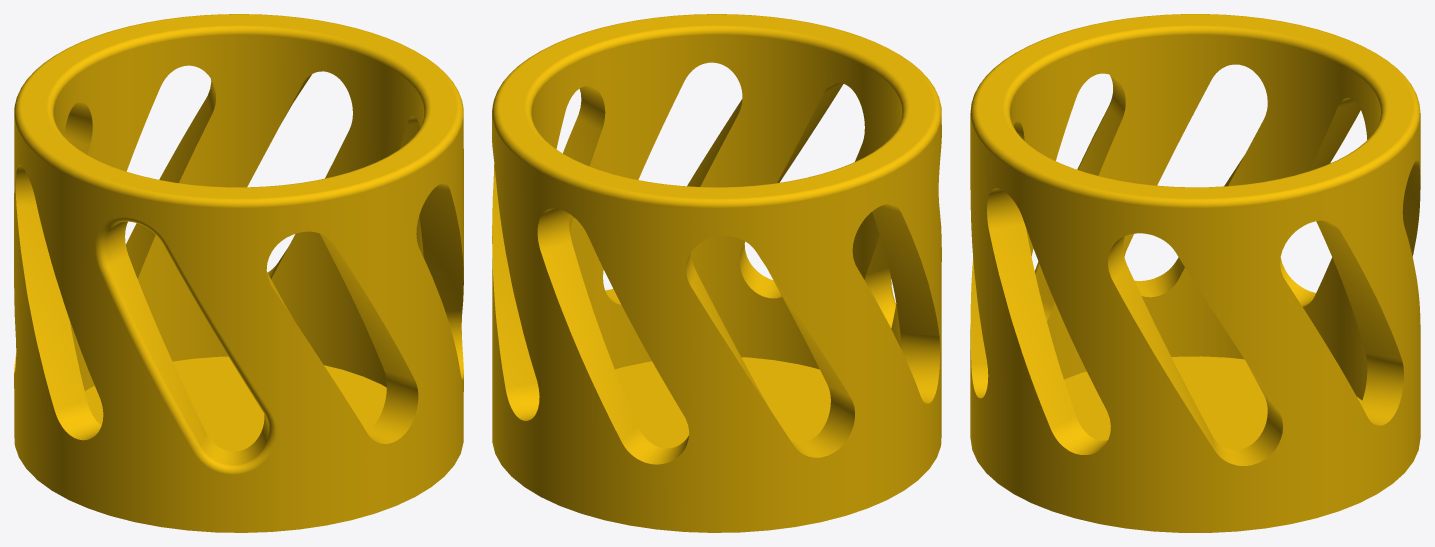
The model's file is Slotted_Hollow_Cylinder.glb.
3 views of the same model, side by side, from view 1: azimuth 30°, elevation 25°; view 2: azimuth 150°, elevation 25°; view 3: azimuth 270°, elevation 25° (orthographic).
Parts seen in each view (by area): view 1: Part78.SLDPRT; view 2: Part78.SLDPRT; view 3: Part78.SLDPRT.
Part boxes in pixels (x1,y1,x2,y2): Part78.SLDPRT: (14,14,463,532); Part78.SLDPRT: (492,14,941,532); Part78.SLDPRT: (970,14,1420,532).
Bounding box in the file's own units: 0.1243 × 0.101 × 0.1243.
